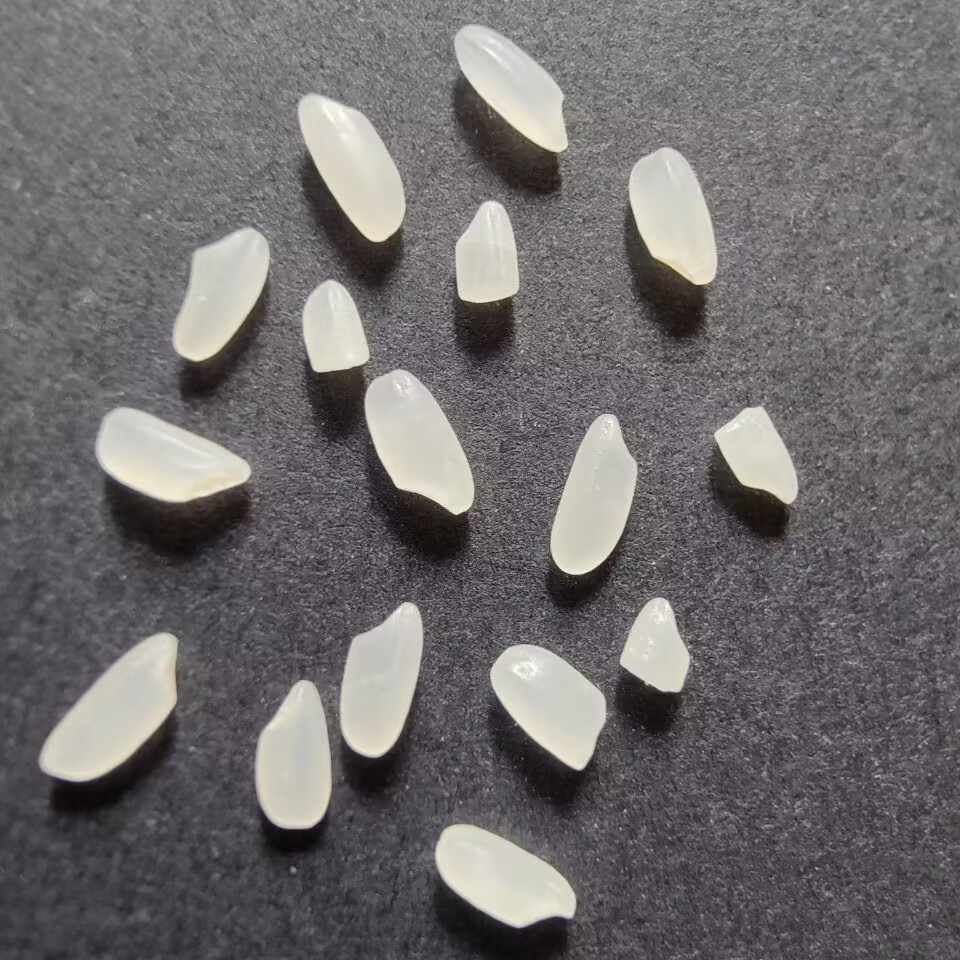broken: (484, 638, 613, 771), (706, 400, 806, 512), (618, 594, 698, 695), (452, 197, 523, 309), (295, 273, 370, 377)
rice: (31, 627, 183, 788), (288, 88, 411, 248), (359, 368, 477, 515), (543, 405, 642, 578), (448, 22, 572, 160), (431, 816, 579, 930), (90, 402, 254, 504), (337, 599, 426, 768), (624, 140, 721, 295), (165, 223, 273, 362), (251, 670, 336, 839)
